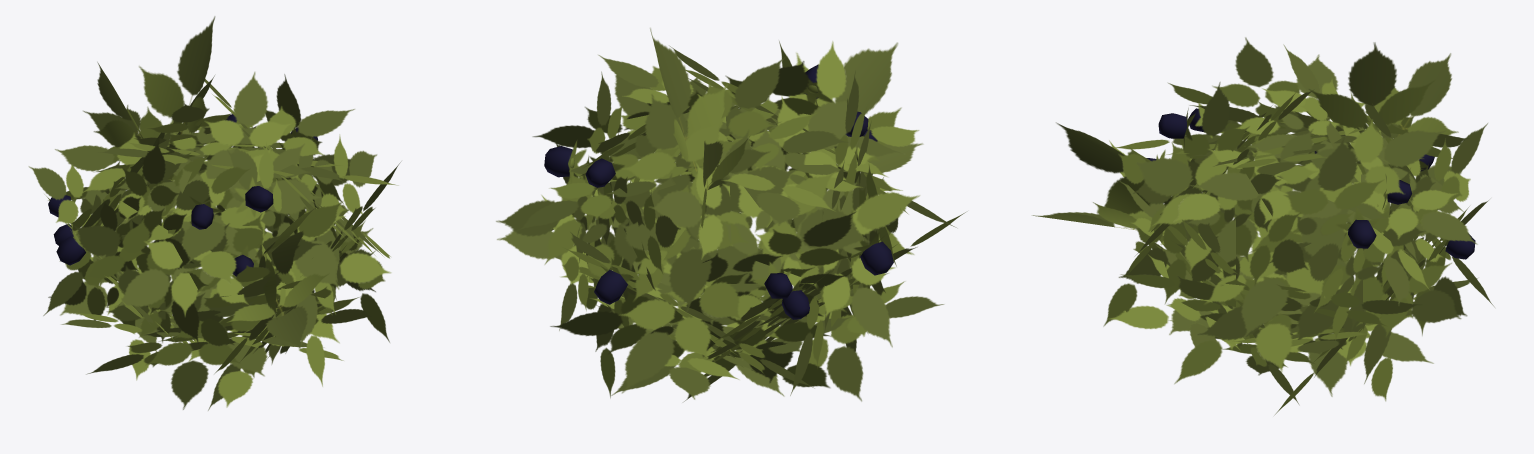
File: Blackberry_Bush_1b.glb
3 views of the same model, side by side, from view 1: azimuth 30°, elevation 25°; view 2: azimuth 150°, elevation 25°; view 3: azimuth 270°, elevation 25° (orthographic). The views are drawn at different scales.
Visible parts, largest first — view 1: Blackberry_Bush_1b; view 2: Blackberry_Bush_1b; view 3: Blackberry_Bush_1b.
Part boxes in pixels (x1,y1,x2,y2): Blackberry_Bush_1b: [28, 16, 400, 410]; Blackberry_Bush_1b: [496, 28, 965, 401]; Blackberry_Bush_1b: [1032, 37, 1493, 415].
Size of the model in its own units: 0.9972 by 0.8671 by 0.9949.
Materials: 1 (1 with a texture image).
